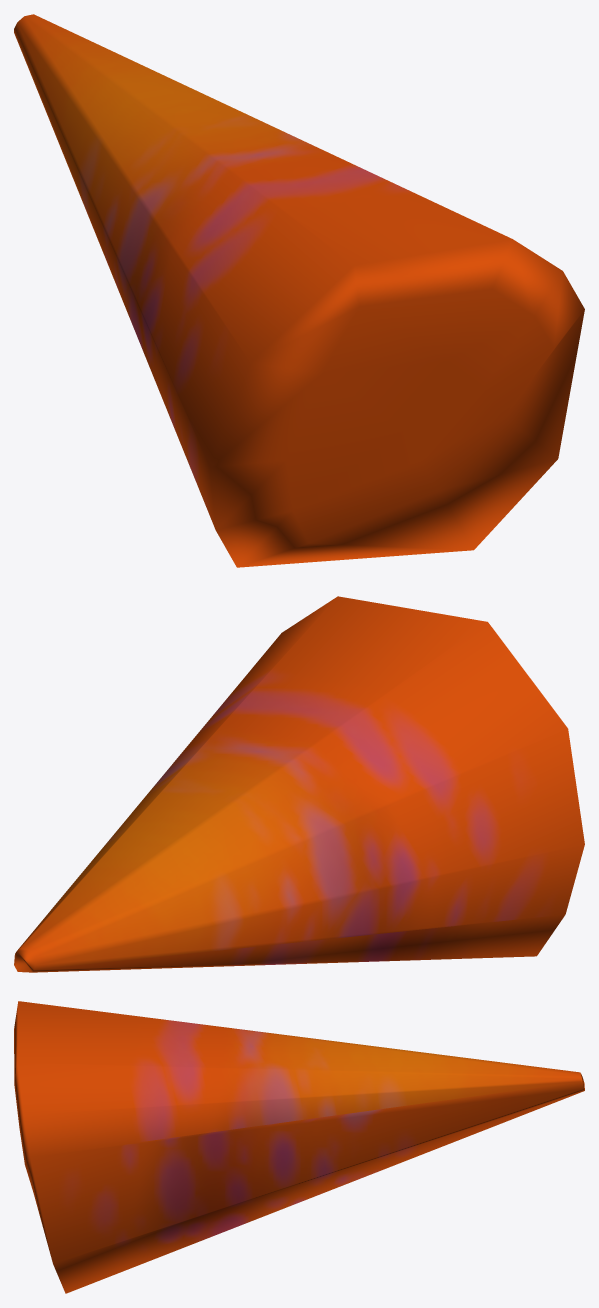
The model's file is akamaru_tail.obj.
3 views of the same model, one above another, from view 1: azimuth 30°, elevation 25°; view 2: azimuth 150°, elevation 25°; view 3: azimuth 270°, elevation 25° (orthographic). The views are drawn at different scales.
Visible parts, largest first — view 1: RED_TAIL; view 2: RED_TAIL; view 3: RED_TAIL.
Boxes of the visible parts, x1,y1,x2,y2 form: RED_TAIL: (14, 14, 584, 567); RED_TAIL: (14, 596, 584, 972); RED_TAIL: (14, 1001, 584, 1293).
Size of the model in its own units: 0.3763 by 0.345 by 0.7412.
Materials: 1 (1 with a texture image).
